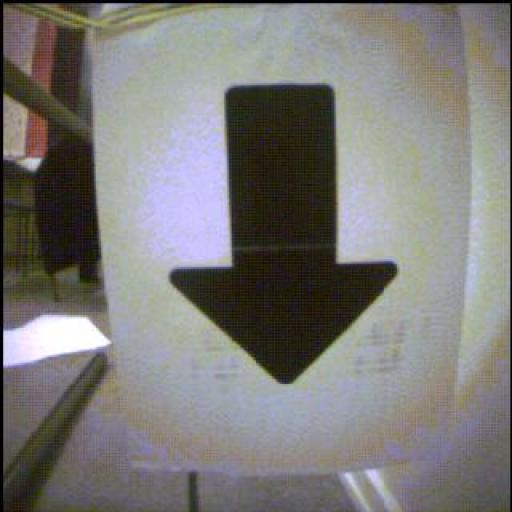arrow: (172, 86, 398, 385)
